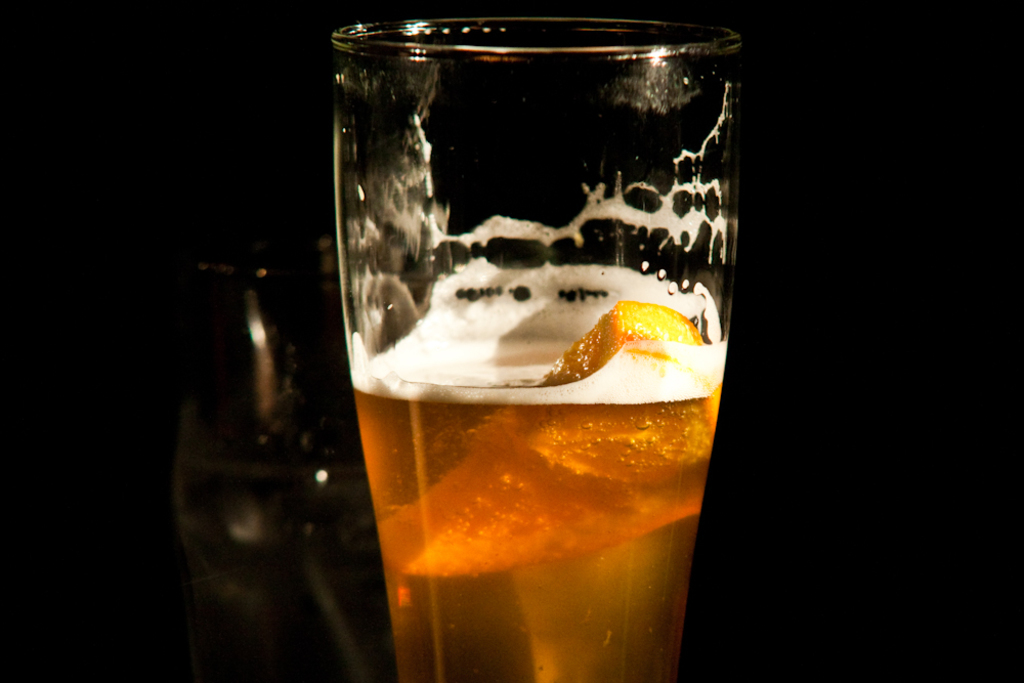Beer: (330, 16, 741, 682)
